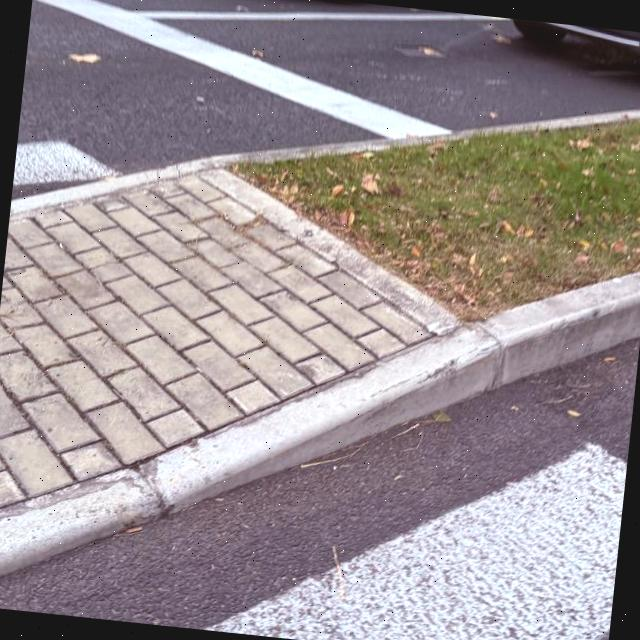curb: (0, 328, 499, 572), (205, 106, 640, 165), (483, 274, 640, 388), (9, 156, 216, 215)
